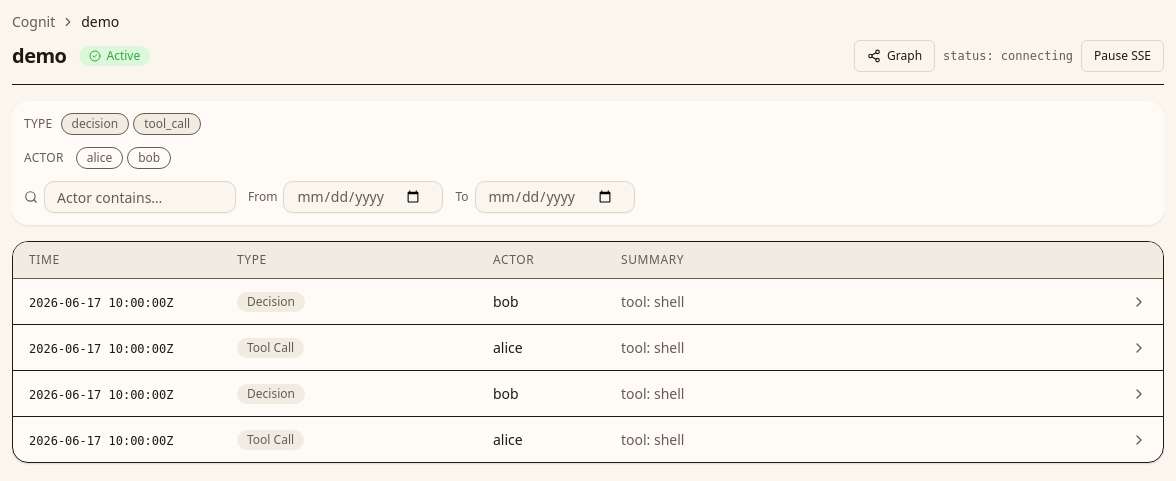
Test: TimelinePage (6.8.2.P4) › actor input applies filter after 250ms debounce
Expected: the number of elements with test id "timeline-event-kind" is 4, [237,292,305,312]; [237,338,304,358]; [237,384,305,404]; [237,430,304,450]
Use real timers + await a setTimeout wrapper for the 250ms debounce.
Type "alice" into the field with test id "timeline-actor-input" at (140, 197), box [44,181,236,213]
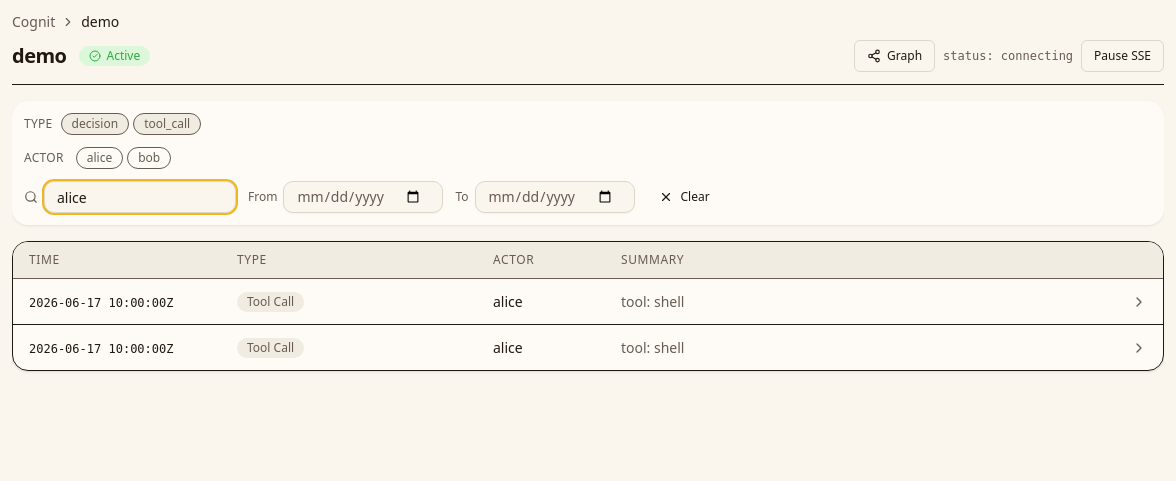
Expected: the number of elements with test id "timeline-event-kind" is 2, [237,292,304,312]; [237,338,304,358]
